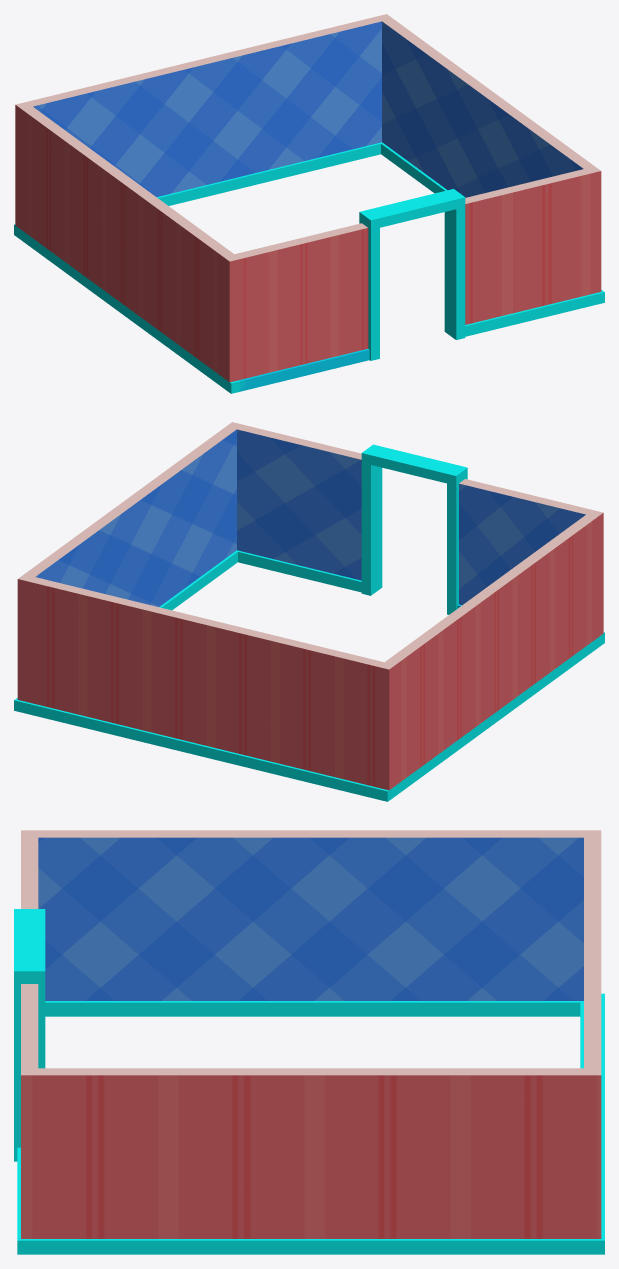
The model's file is VIPrm01_Wall_geo.fbx.
3 renders of one model, top to bottom at view 1: azimuth 30°, elevation 25°; view 2: azimuth 150°, elevation 25°; view 3: azimuth 270°, elevation 25°, orthographic. The views are drawn at different scales.
Visible parts, largest first — view 1: VIPrm01_Wall_geo; view 2: VIPrm01_Wall_geo; view 3: VIPrm01_Wall_geo.
Part boxes in pixels (bbox=[...]): VIPrm01_Wall_geo: bbox=[14, 14, 604, 393]; VIPrm01_Wall_geo: bbox=[14, 422, 604, 801]; VIPrm01_Wall_geo: bbox=[14, 830, 604, 1254].
Bounding box in the file's own units: 6.07 × 6.14 × 2.18.
